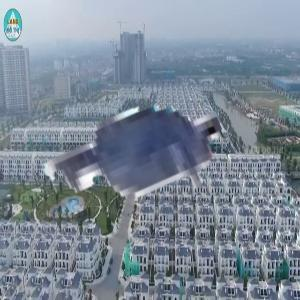drone: (14, 18, 283, 287)
